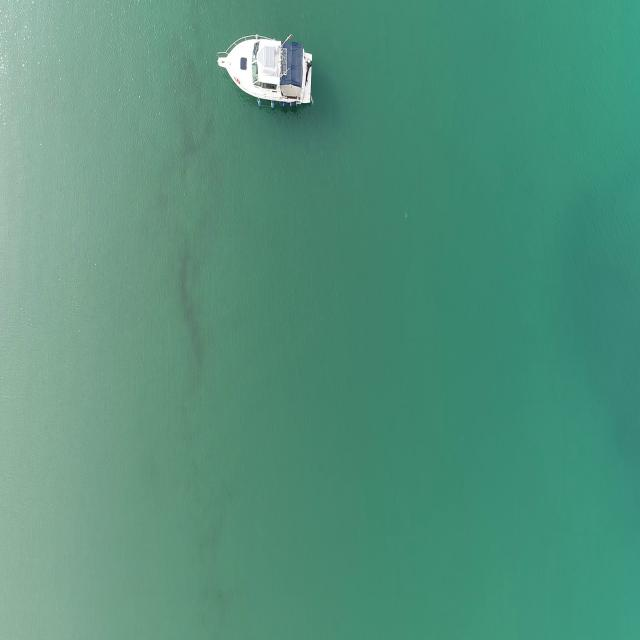boat: (215, 34, 316, 112)
